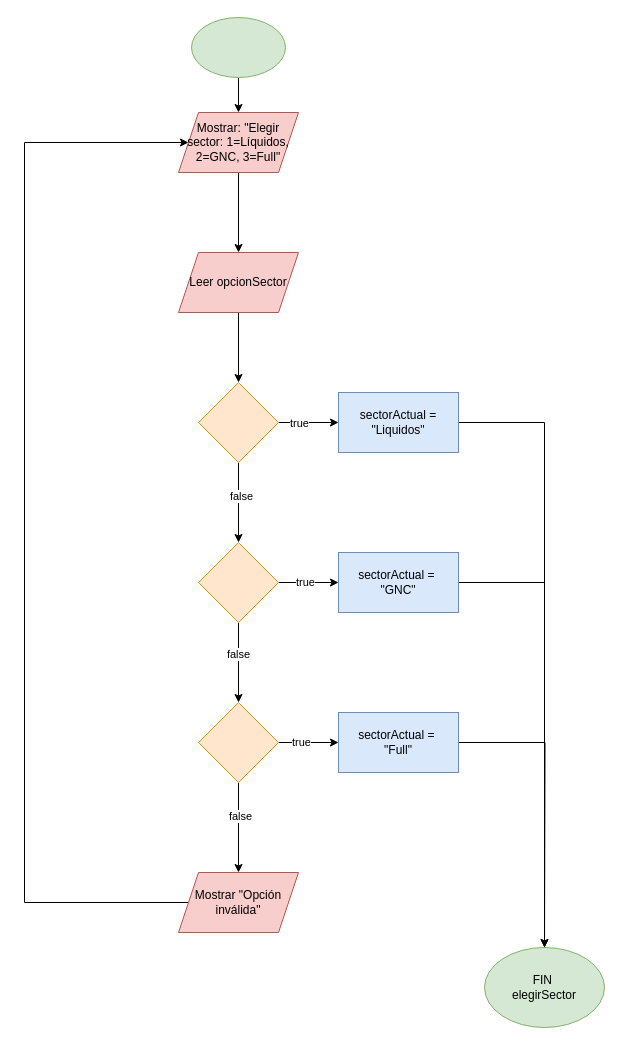
Image size: 622x1045. Some labels were removed from this diagram. Here are the shapes that lost their labels. From the top down, the box of each, then its label:
(190, 16, 286, 78): Inicio
(198, 382, 278, 462): ¿opcionSector == 1?
(198, 542, 278, 622): ¿opcionSector == 2?
(198, 702, 278, 782): ¿opcionSector = 3?
